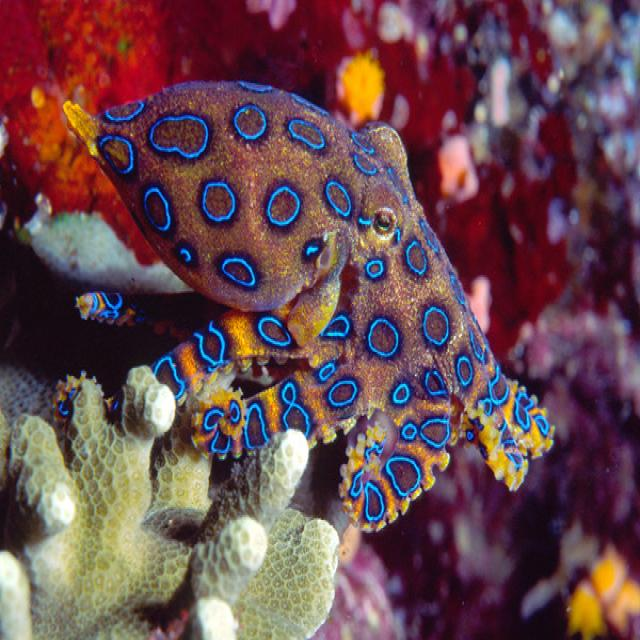blue_ringed_octopus: (52, 81, 555, 532)
